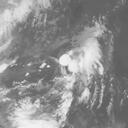cyclone: (56, 37, 105, 84)
